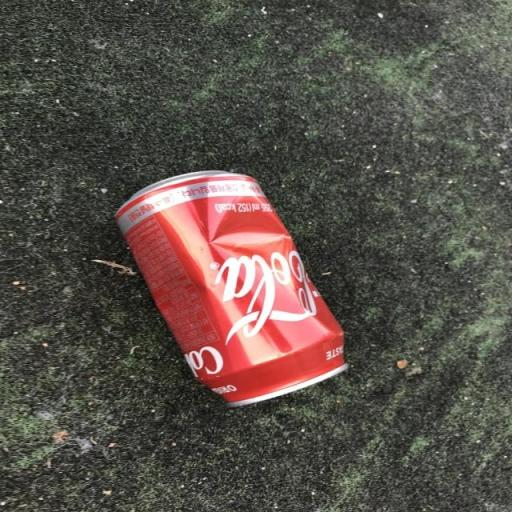metal: (89, 150, 367, 424)
